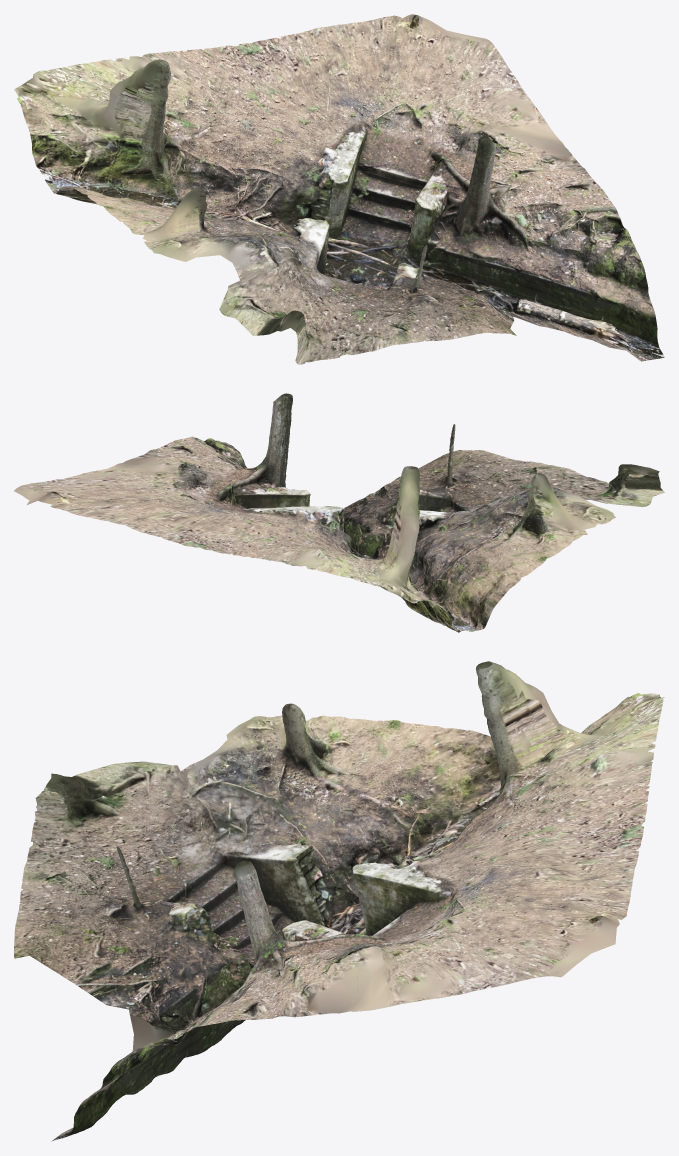
The model's file is stairs_to_ww1_trench_helsinki_finland.glb.
3 renders of one model, top to bottom at view 1: azimuth 30°, elevation 25°; view 2: azimuth 150°, elevation 25°; view 3: azimuth 270°, elevation 25°, orthographic. The views are drawn at different scales.
Visible parts, largest first — view 1: Model; view 2: Model; view 3: Model.
Boxes of the visible parts, x1,y1,x2,y2 form: Model: [14, 14, 664, 364]; Model: [14, 393, 664, 632]; Model: [14, 661, 664, 1141].
Bounding box in the file's own units: 80.88 × 40.9 × 82.47.
Materials: 1 (1 with a texture image).
